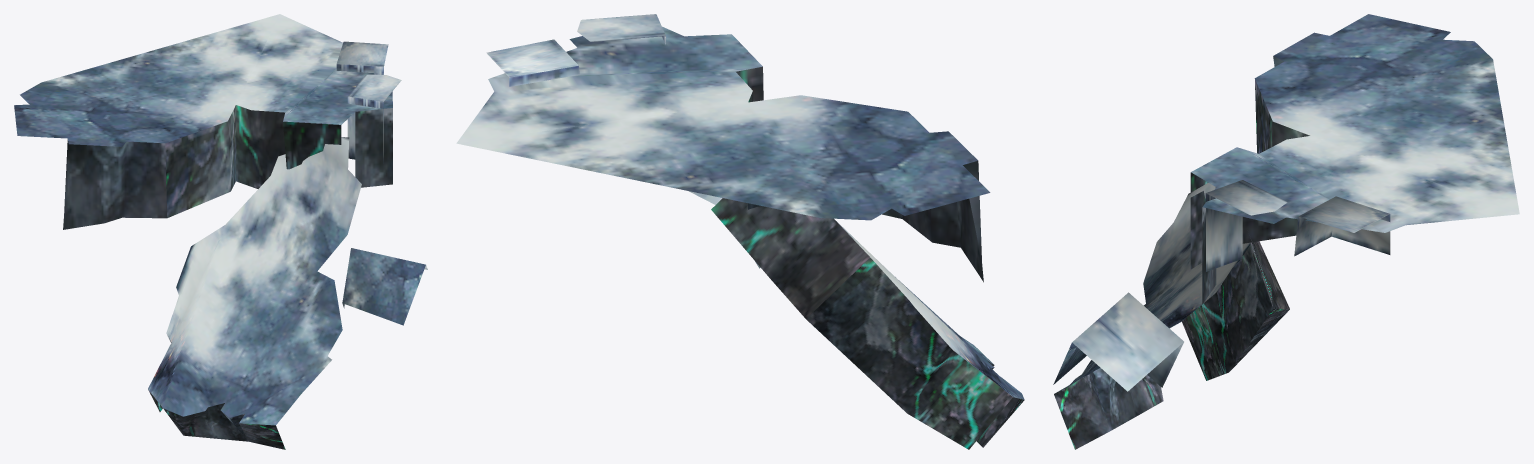
File: S_Build_Snowland208_2.FBX
3 views of the same model, side by side, from view 1: azimuth 30°, elevation 25°; view 2: azimuth 150°, elevation 25°; view 3: azimuth 270°, elevation 25° (orthographic). The views are drawn at different scales.
Parts seen in each view (by area): view 1: S_Build_Snowland208_2; view 2: S_Build_Snowland208_2; view 3: S_Build_Snowland208_2.
Part boxes in pixels (left/top/right/bottom): S_Build_Snowland208_2: left=14, top=14, right=427, bottom=449; S_Build_Snowland208_2: left=456, top=14, right=1024, bottom=449; S_Build_Snowland208_2: left=1053, top=14, right=1519, bottom=449.
Size of the model in its own units: 616 by 534 by 441.
